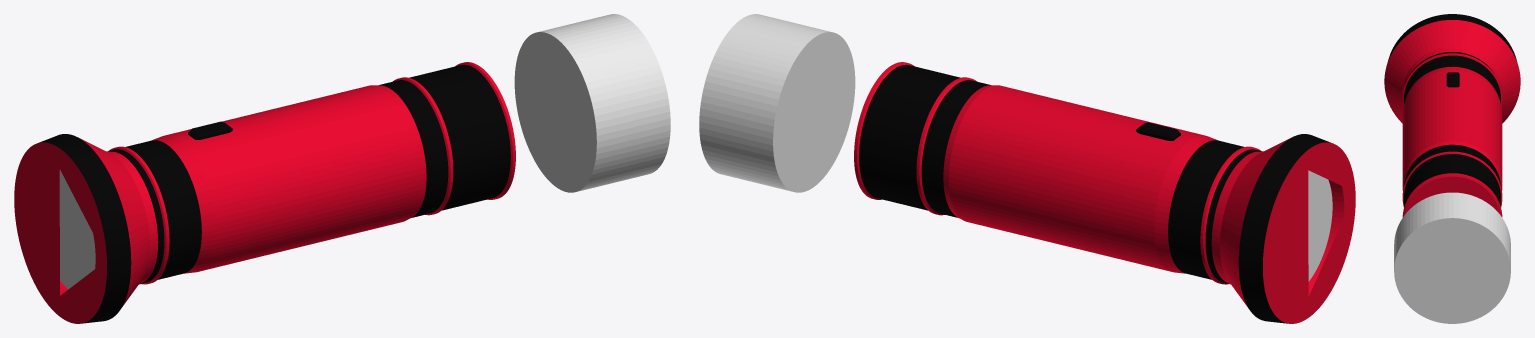
File: Torch.fbx
The picture shows the model from 3 angles, left to right: view 1: azimuth 30°, elevation 25°; view 2: azimuth 150°, elevation 25°; view 3: azimuth 270°, elevation 25°; orthographic projection. The views are drawn at different scales.
Parts seen in each view (by area): view 1: Cylinder.008, Cylinder.002, Cylinder.006, Cylinder.001, Cylinder.004, Cylinder.003, Cylinder.007, Cube.049; view 2: Cylinder.008, Cylinder.002, Cylinder.006, Cylinder.001, Cylinder.003, Cylinder.004, Cylinder.007, Cube.049; view 3: Cylinder.002, Cylinder.008, Cylinder.006, Cylinder.001, Cylinder.007, Cylinder.003, Cylinder.004, Cube.049.
Part boxes in pixels (bbox=[...]): Cylinder.008: bbox=[151, 85, 426, 273]; Cylinder.002: bbox=[514, 14, 670, 192]; Cylinder.006: bbox=[14, 134, 158, 323]; Cylinder.001: bbox=[108, 64, 510, 284]; Cylinder.004: bbox=[109, 146, 169, 284]; Cylinder.003: bbox=[393, 77, 453, 215]; Cylinder.007: bbox=[455, 62, 515, 199]; Cube.049: bbox=[188, 121, 232, 139]; Cylinder.008: bbox=[943, 85, 1218, 273]; Cylinder.002: bbox=[699, 14, 855, 192]; Cylinder.006: bbox=[1211, 134, 1355, 323]; Cylinder.001: bbox=[859, 64, 1261, 283]; Cylinder.003: bbox=[916, 77, 976, 215]; Cylinder.004: bbox=[1200, 146, 1260, 284]; Cylinder.007: bbox=[854, 62, 914, 199]; Cube.049: bbox=[1136, 122, 1180, 140]; Cylinder.002: bbox=[1394, 192, 1510, 323]; Cylinder.008: bbox=[1402, 66, 1502, 190]; Cylinder.006: bbox=[1384, 14, 1520, 123]; Cylinder.001: bbox=[1404, 51, 1500, 206]; Cylinder.007: bbox=[1402, 173, 1502, 217]; Cylinder.003: bbox=[1402, 151, 1502, 207]; Cylinder.004: bbox=[1402, 53, 1502, 106]; Cube.049: bbox=[1446, 72, 1459, 87].
Size of the model in its own units: 313 by 91.55 by 91.53.
